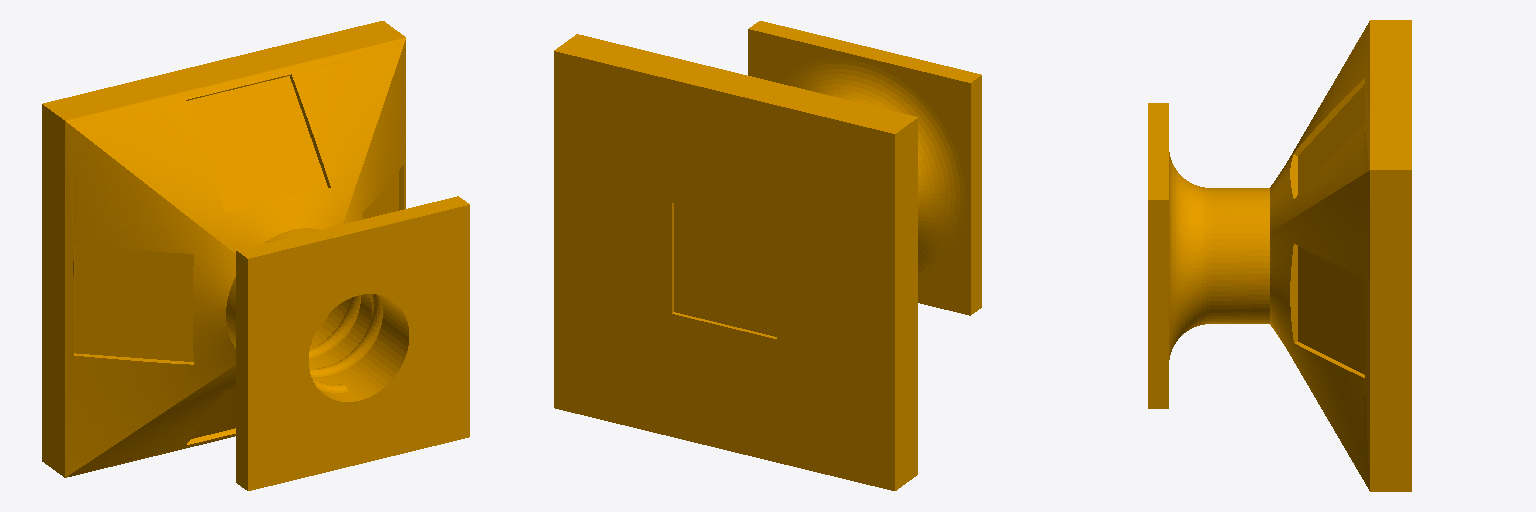
The robot description file, URDF, robot "lamp_base":
<?xml version="1.0"?>
<robot name="lamp_base">
    <link name="lamp_base">
        <visual>
            <geometry>
                <mesh filename="../mesh/lamp/lamp_base.obj" scale="1 1 1"/>
            </geometry>
        </visual>
        <collision>
            <geometry>
                <mesh filename="../mesh/lamp/lamp_base.obj" scale="1 1 1"/>
            </geometry>
            <sdf resolution="512"/>
        </collision>
    </link>
</robot>

--- What the picture shows (computed from the rendered views, not written in the file) ---
Views: 3 orthographic renders of the robot side by side, from view 1: azimuth 30°, elevation 25°; view 2: azimuth 150°, elevation 25°; view 3: azimuth 270°, elevation 25°.
Robot: lamp_base — 1 links, 0 joints (none); root link lamp_base; default pose: every joint at zero.
Visible links, largest first — view 1: lamp_base; view 2: lamp_base; view 3: lamp_base.
Boxes of the visible links, x1=… form: lamp_base: x1=42, y1=21, x2=469, y2=490; lamp_base: x1=554, y1=21, x2=981, y2=490; lamp_base: x1=1148, y1=20, x2=1411, y2=491.
Bounding box of the posed robot: 0.0847 × 0.063 × 0.0847 m (x, y, z).
1 mesh visuals loaded from 1 distinct referenced files (1 OBJ).